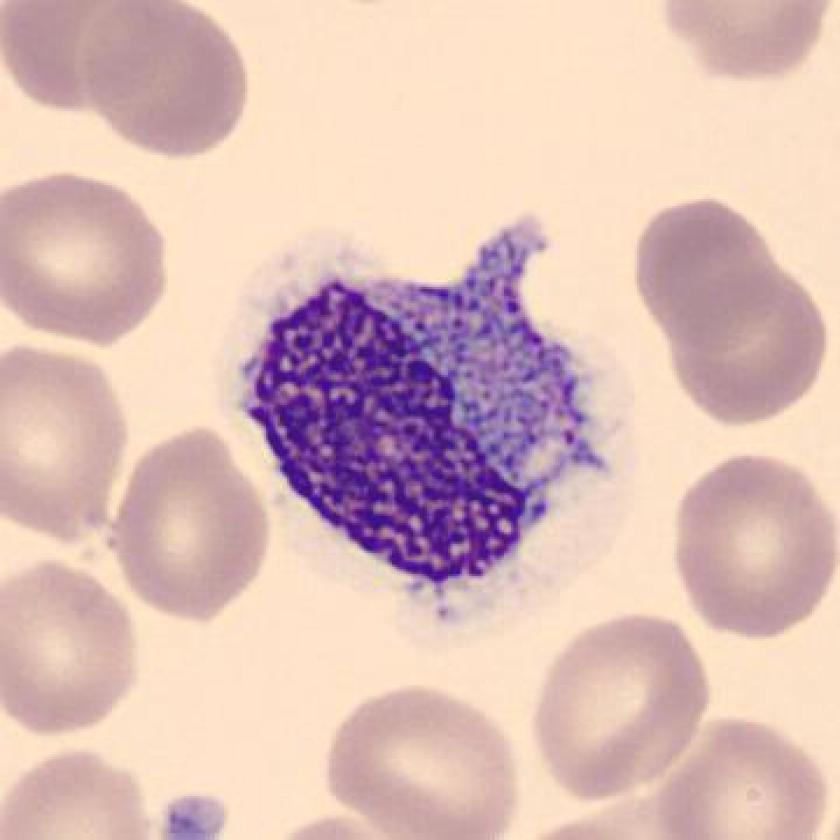monocyte: (211, 182, 640, 654)
